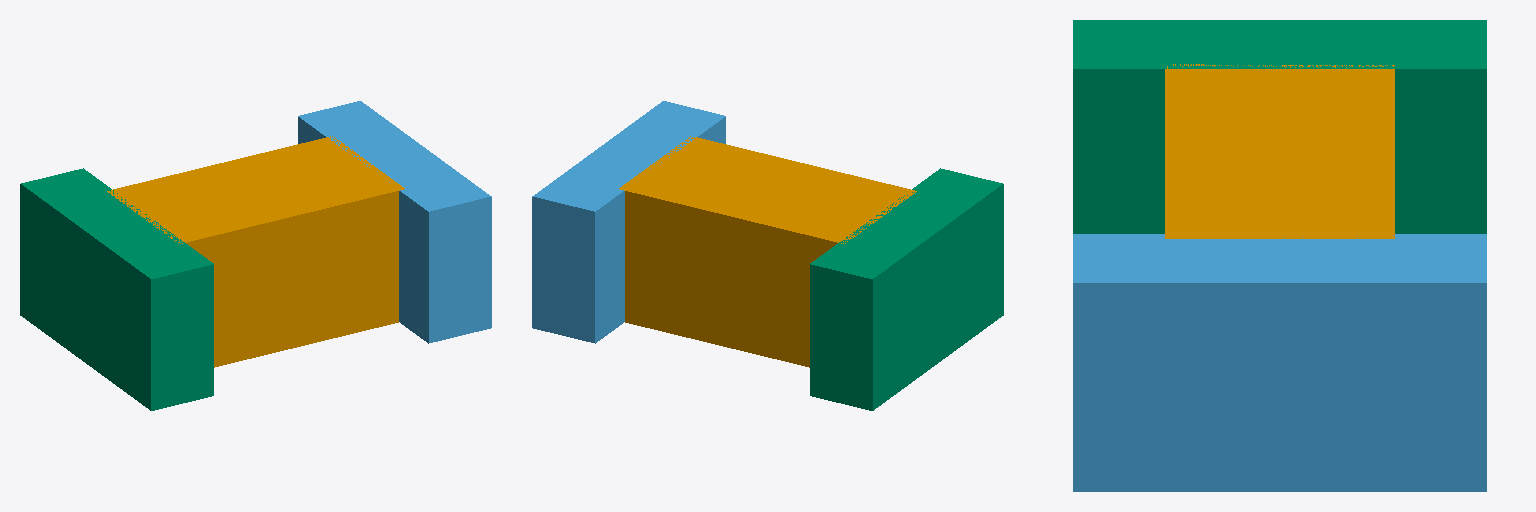
URDF robot description (tetris1.urdf):
<?xml version="1.0" ?>
<robot name="tetris1.urdf">
  <link name="center">
    <contact>
      <lateral_friction value="1.0"/>
      <rolling_friction value="0.0"/>
      <contact_cfm value="0.0"/>
      <contact_erp value="1.0"/>
    </contact>
    <inertial>
      <origin rpy="0 0 0" xyz="0.0 0.02 0.0"/>
       <mass value="0.08"/>
       <inertia ixx="1" ixy="0" ixz="0" iyy="2" iyz="0" izz="2"/>
    </inertial>
    <visual>
      <origin rpy="0 0 0" xyz="0 0 0"/>
      <geometry>
        <box size="1.8 1 1"/>
      </geometry>
    </visual>
    <collision>
      <origin rpy="0 0 0" xyz="0 0 0"/>
      <geometry>
        <box size="1.8 1 1"/>
      </geometry>
    </collision>
  </link>
  <link name="top">
    <contact>
      <lateral_friction value="1.0"/>
      <rolling_friction value="0.0"/>
      <contact_cfm value="0.0"/>
      <contact_erp value="1.0"/>
    </contact>
    <inertial>
      <origin rpy="0 0 0" xyz="0.0 0.0 0.0"/>
       <mass value="0.02"/>
       <inertia ixx="1" ixy="0" ixz="0" iyy="2" iyz="0" izz="2"/>
    </inertial>
    <visual>
      <origin rpy="0 0 0" xyz="0 0 0"/>
      <geometry>
        <box size="0.5 1.8 1"/>
      </geometry>
    </visual>
    <collision>
      <origin rpy="0 0 0" xyz="0 0 0"/>
      <geometry>
        <box size="0.5 1.8 1"/>
      </geometry>
    </collision>
  </link>
  <joint name="fixed1" type="fixed">
    <origin rpy="0 0 0" xyz="1.1 0 0"/>
    <parent link="center"/>
    <child link="top"/>
    <axis xyz="0 0 1"/>
  </joint>
  <link name="bottom">
    <contact>
      <lateral_friction value="1.0"/>
      <rolling_friction value="0.0"/>
      <contact_cfm value="0.0"/>
      <contact_erp value="1.0"/>
    </contact>
    <inertial>
      <origin rpy="0 0 0" xyz="0.0 0.0 0.0"/>
       <mass value="0.02"/>
       <inertia ixx="1" ixy="0" ixz="0" iyy="2" iyz="0" izz="2"/>
    </inertial>
    <visual>
      <origin rpy="0 0 0" xyz="0 0 0"/>
      <geometry>
        <box size="0.5 1.8 1"/>
      </geometry>
    </visual>
    <collision>
      <origin rpy="0 0 0" xyz="0 0 0"/>
      <geometry>
        <box size="0.5 1.8 1"/>
      </geometry>
    </collision>
  </link>
  <joint name="fixed2" type="fixed">
    <origin rpy="0 0 0" xyz="-1.1 0 0"/>
    <parent link="center"/>
    <child link="bottom"/>
    <axis xyz="0 0 1"/>
  </joint>
</robot>

--- What the picture shows (computed from the rendered views, not written in the file) ---
3 views of the same robot in one strip: view 1: azimuth 30°, elevation 25°; view 2: azimuth 150°, elevation 25°; view 3: azimuth 270°, elevation 25° (orthographic).
Robot: tetris1.urdf — 3 links, 2 joints (2 fixed); root link center; default pose: all joints at 0.
Visible links, largest first — view 1: center, bottom, top; view 2: center, bottom, top; view 3: top, bottom, center.
Boxes of the visible links, <box> form: center: <box>107,136,404,367</box>; bottom: <box>20,168,213,410</box>; top: <box>298,101,491,343</box>; center: <box>619,136,916,367</box>; bottom: <box>810,168,1003,410</box>; top: <box>532,101,725,343</box>; top: <box>1073,234,1486,491</box>; bottom: <box>1073,20,1486,233</box>; center: <box>1165,64,1394,238</box>.
Bounding box of the posed robot: 2.7 × 1.8 × 1 m (x, y, z).
Geometry: primitives only (box / cylinder / sphere), no mesh files.